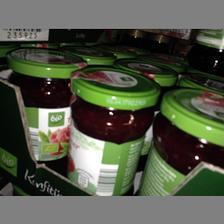Marmelade: (64, 66, 160, 194), (4, 46, 84, 174), (138, 88, 222, 194)
